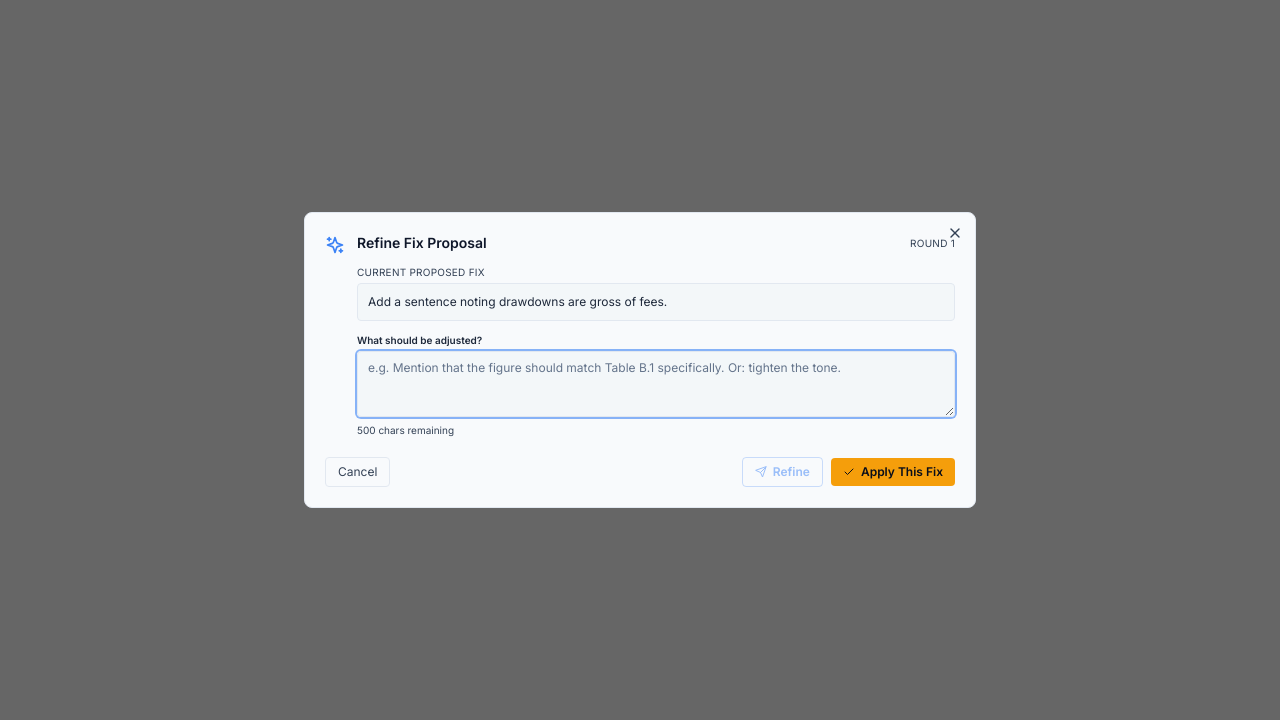
Scenario: RefinementModal › Refine POSTs /apply-fix/refine and updates the proposal panel + history
Type "Match Table B.1" into the text box with test id "refinement-modal-note" at (656, 384), box top-left (357, 351), bottom-right (955, 417)
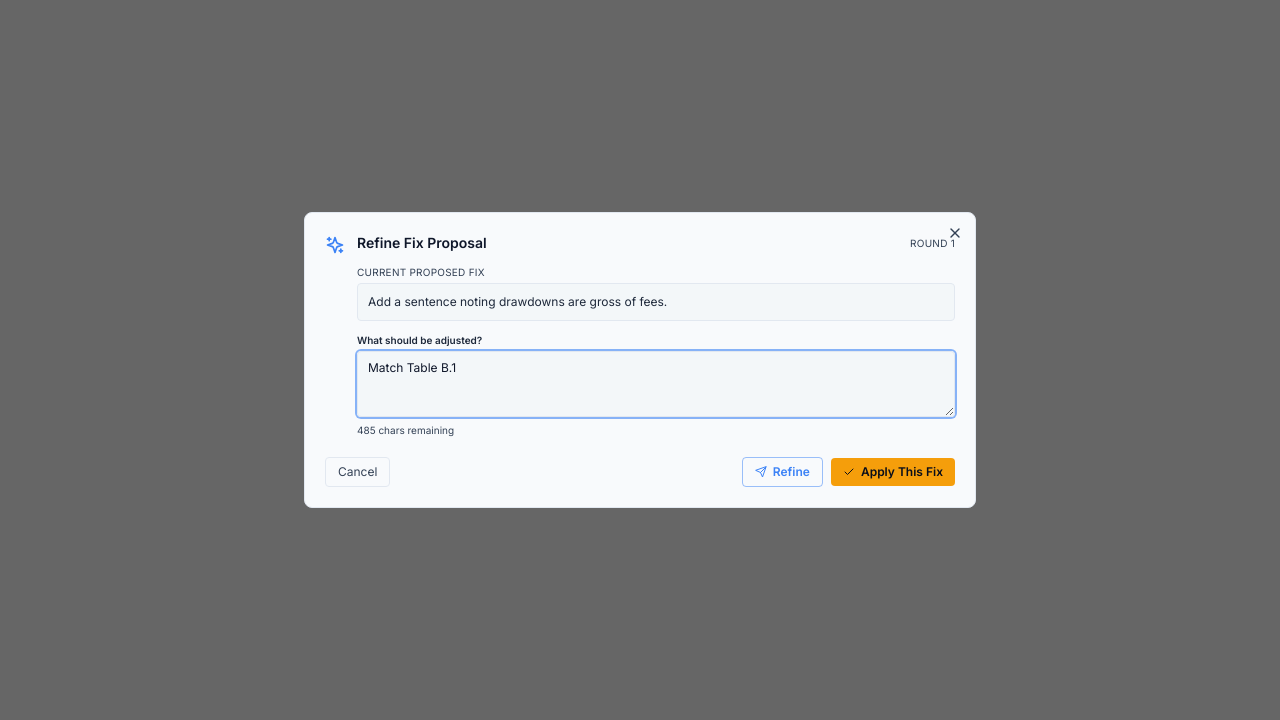
Click the button with test id "refinement-modal-refine" at (782, 472), box top-left (742, 457), bottom-right (823, 487)
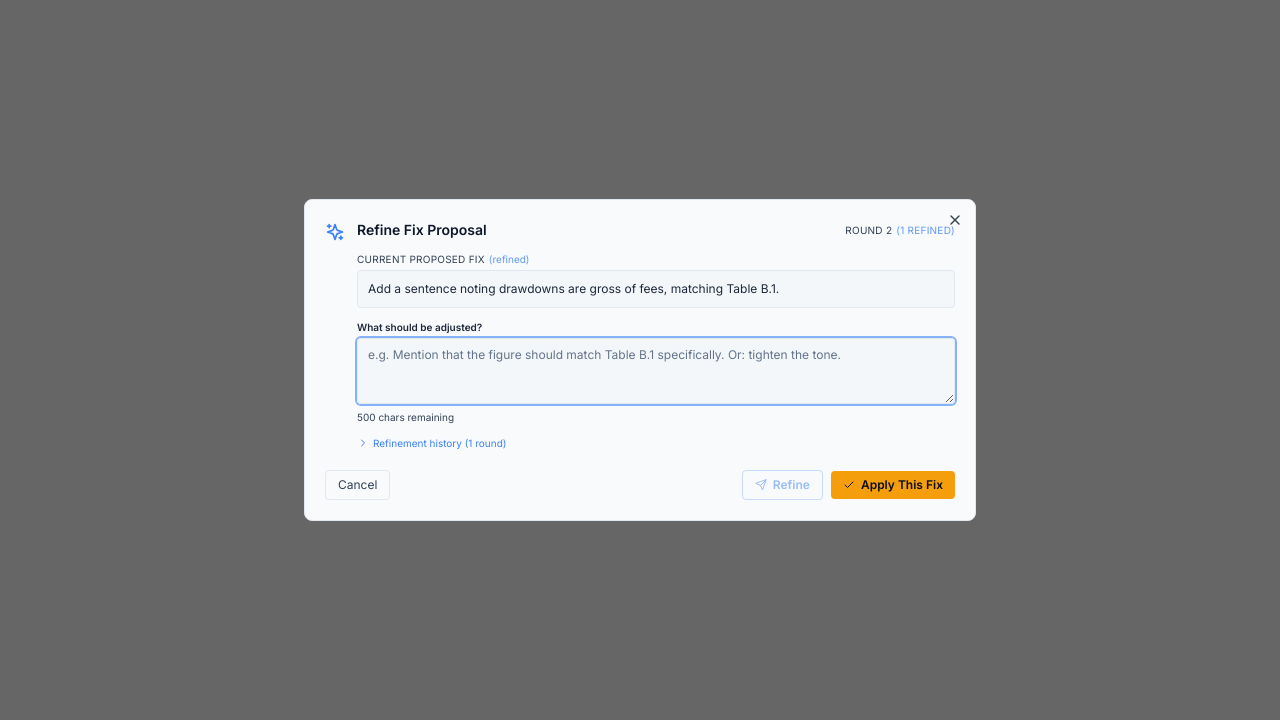
Check: the text with test id "refinement-modal-current-proposal" shows "matching Table B.1", box top-left (368, 281), bottom-right (779, 296)
Check: the element with test id "refinement-modal-round" shows "Round 2", box top-left (845, 223), bottom-right (955, 237)
# History toggle reveals the round-1 row.
Click the button with test id "refinement-modal-history-toggle" at (432, 443), box top-left (357, 436), bottom-right (506, 450)
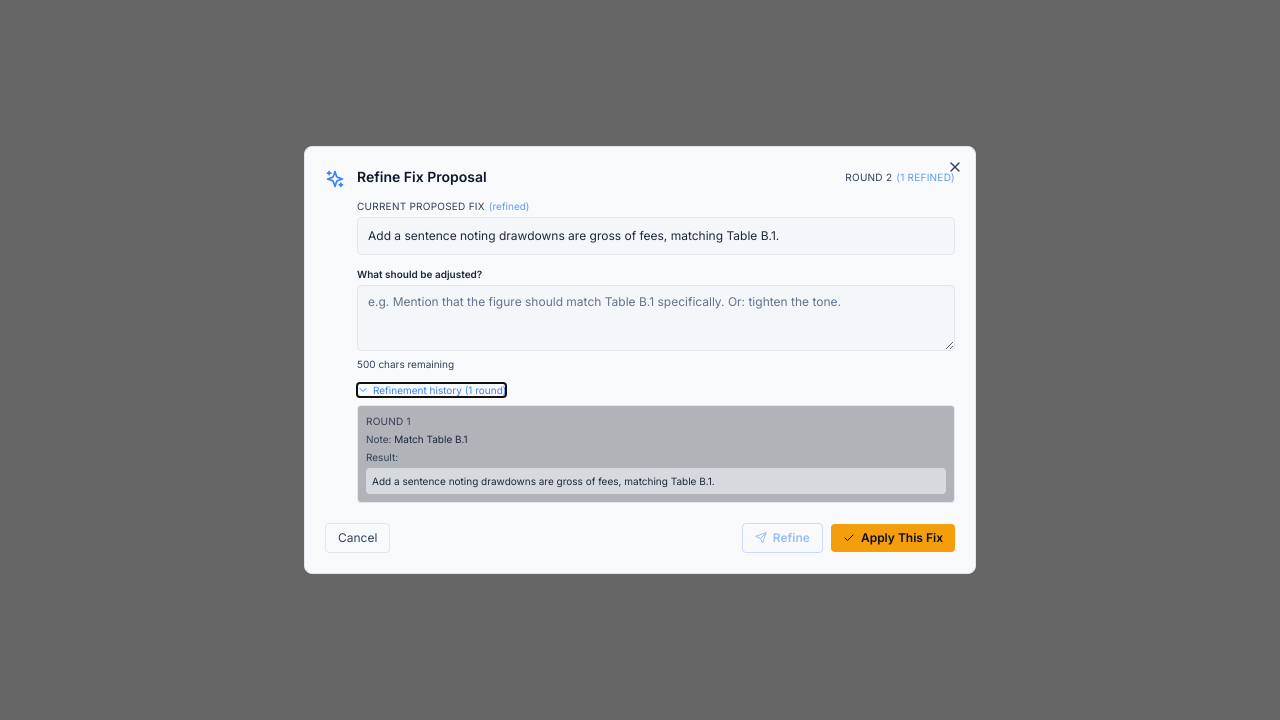
Check: the text box with test id "refinement-modal-note" is empty, box top-left (357, 285), bottom-right (955, 351)
Check: the element with test id "refinement-modal-history-row-1" shows "Match Table B.1", box top-left (394, 433), bottom-right (468, 445)
